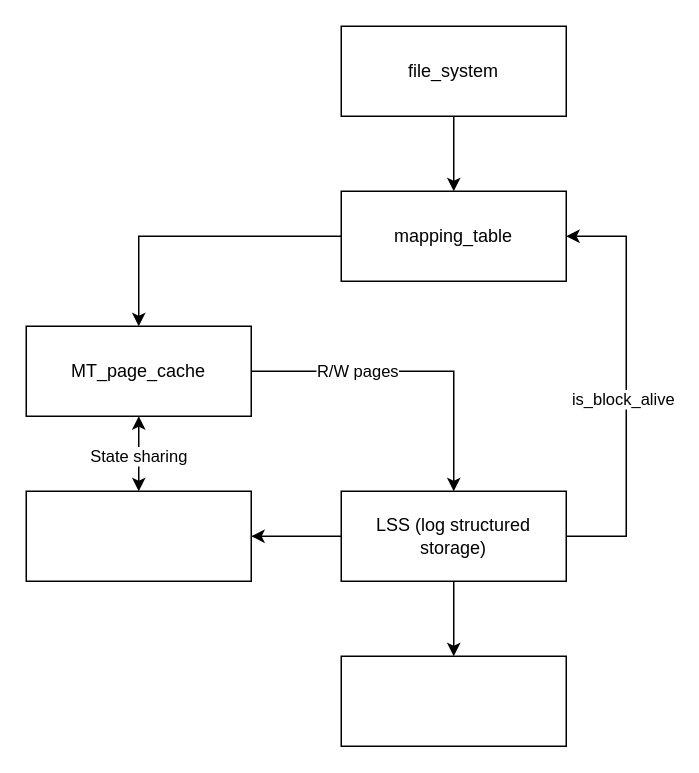
This 699x773 diagram has some shape labels left out. Each missing label, with the box of its shape:
io_wrapper: (340, 655, 566, 746)
LSS_page_cache: (25, 490, 251, 581)
